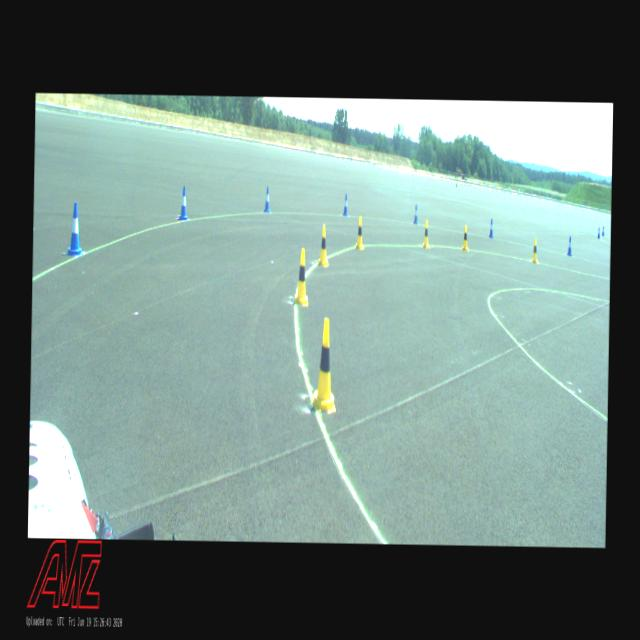blue_cone: (67, 202, 82, 254), (178, 185, 188, 220), (264, 186, 270, 212), (342, 194, 348, 215), (413, 204, 418, 224), (567, 236, 572, 256), (488, 218, 492, 236), (597, 227, 600, 238), (601, 225, 604, 236)
yellow_cone: (312, 318, 336, 412), (294, 248, 308, 306), (318, 224, 329, 266), (355, 216, 364, 249), (422, 220, 430, 248), (462, 225, 468, 250), (532, 238, 538, 262)
